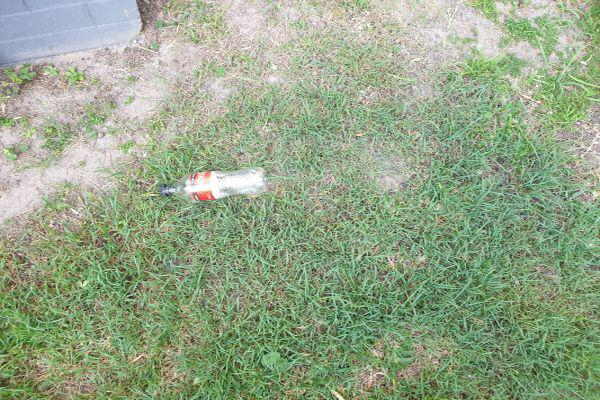Plastic Bottle: (160, 166, 269, 202)
